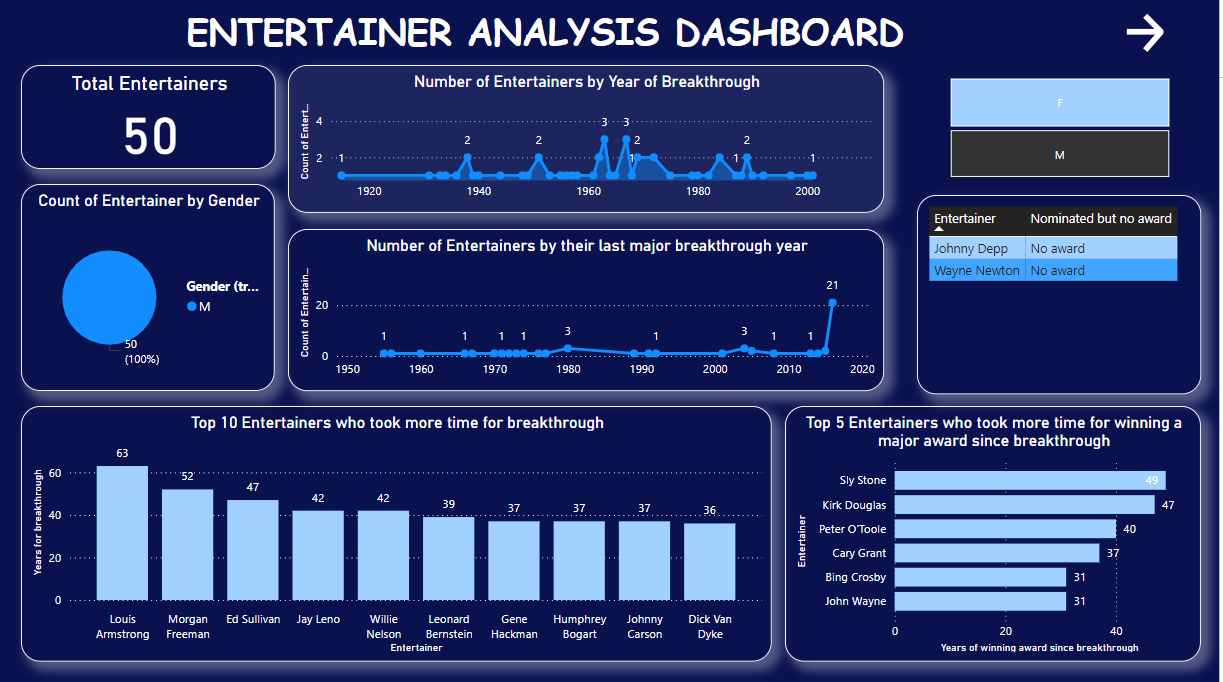

The page's visual inventory and layout, read from the dashboard file:
{"tool":"powerbi","page":{"name":"Home","canvas":[1280,720],"ordinal":0},"visuals":[{"type":"pieChart","title":"Count of Entertainer by Gender","fields":{"Y":["Entertainer data.Index"],"Category":["Entertainer data.Gender (traditional)"]},"box":[24.1,196,266.3,217],"z":0},{"type":"lineChart","title":"Number of Entertainers by Year of Breakthrough","fields":{"Category":["Entertainer data.Year of Breakthrough/#1 Hit/Award Nomination"],"Y":["Entertainer data.Entertainer"]},"box":[304,71.3,624.8,155.2],"z":1000},{"type":"clusteredColumnChart","title":"Top 10 Entertainers who took more time for breakthrough","fields":{"Category":["Entertainer data.Entertainer"],"Y":["Entertainer data.Years for breakthrough"]},"box":[24.1,428.8,787.3,268.4],"z":2000},{"type":"clusteredBarChart","title":"Top 5 Entertainers who took more time for winning a major award since breakthrough","fields":{"Category":["Entertainer data.Entertainer"],"Y":["Entertainer data.Years of winning award since breakthrough"]},"box":[825,428.8,436.1,268.4],"z":3000},{"type":"card","title":"Total Entertainers","fields":{"Values":["Entertainer data.Index"]},"box":[24.1,71.3,267.3,109],"z":4000},{"type":"tableEx","fields":{"Values":["Entertainer data.Entertainer","Entertainer data.Year of Winning an award"]},"box":[963.4,207.6,297.7,208.6],"z":5000},{"type":"lineChart","title":"Number of Entertainers by their last major breakthrough year","fields":{"Category":["Entertainer data.Year of Last Major Work (arguable)"],"Y":["Entertainer data.Entertainer"]},"box":[304,242.7,624.8,169.8],"z":6000},{"type":"slicer","fields":{"Values":["Entertainer data.Gender (traditional)"]},"box":[972.8,78.6,278.9,117.4],"z":7000},{"type":"actionButton","box":[1167.8,4.2,93.3,67.1],"z":8000},{"type":"textbox","box":[34.6,4.2,1077.7,67.1],"z":9000}]}

Visuals, with their boxes in screenshot pixels (x1, y1, x2, y2), scaled from the page's 1280x720 canvas onto the 1223x682 screenshot:
"Count of Entertainer by Gender" pieChart: BBox(23, 186, 277, 391)
"Number of Entertainers by Year of Breakthrough" lineChart: BBox(290, 68, 887, 215)
"Top 10 Entertainers who took more time for breakthrough" clusteredColumnChart: BBox(23, 406, 775, 660)
"Top 5 Entertainers who took more time for winning a major award since breakthrough" clusteredBarChart: BBox(788, 406, 1205, 660)
"Total Entertainers" card: BBox(23, 68, 278, 171)
tableEx - Entertainer data.Entertainer x Entertainer data.Year of Winning an award: BBox(920, 197, 1205, 394)
"Number of Entertainers by their last major breakthrough year" lineChart: BBox(290, 230, 887, 391)
slicer - Entertainer data.Gender (traditional): BBox(929, 74, 1196, 186)
actionButton: BBox(1116, 4, 1205, 68)
textbox: BBox(33, 4, 1063, 68)
